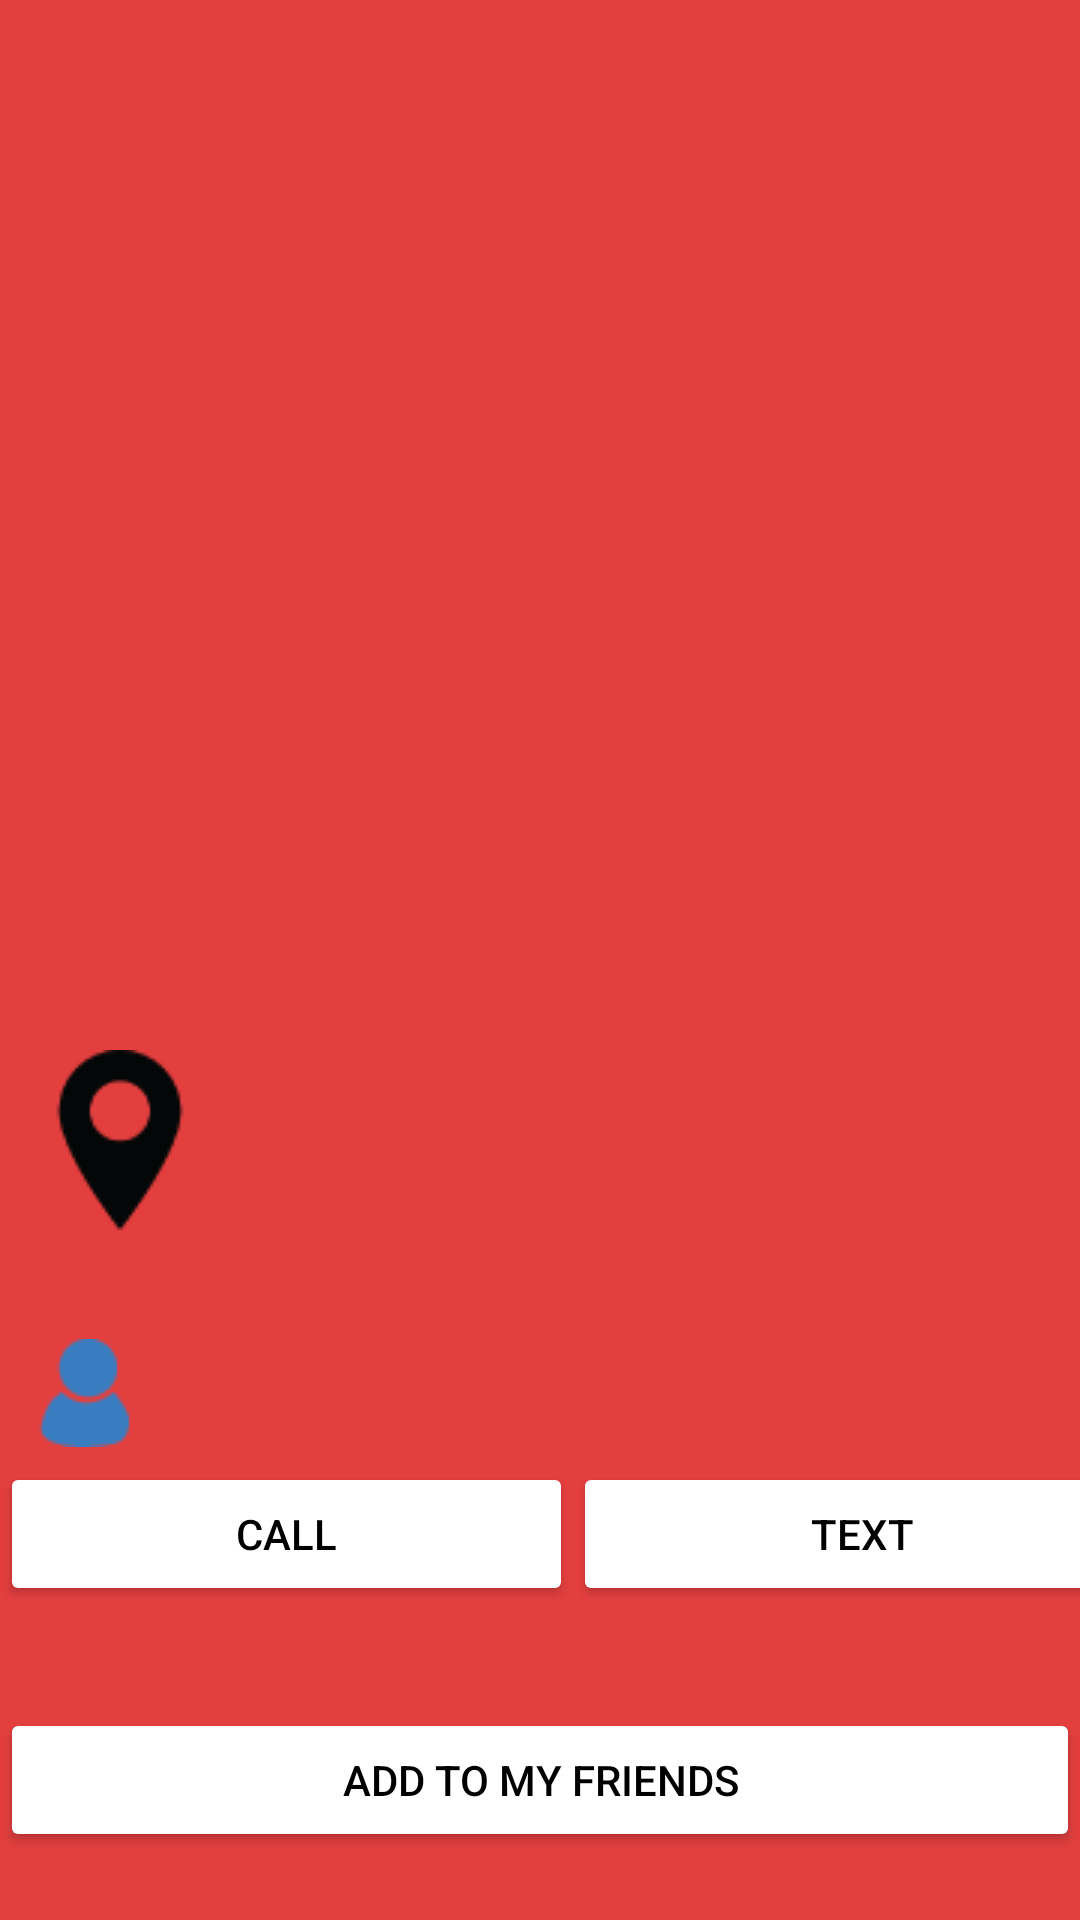

Locate icon controls on the screen. Image size 1080 x 1920, boxes as (x1, y1, x2, y2).
location: (56, 1050, 184, 1230)
people: (39, 1339, 130, 1447)
